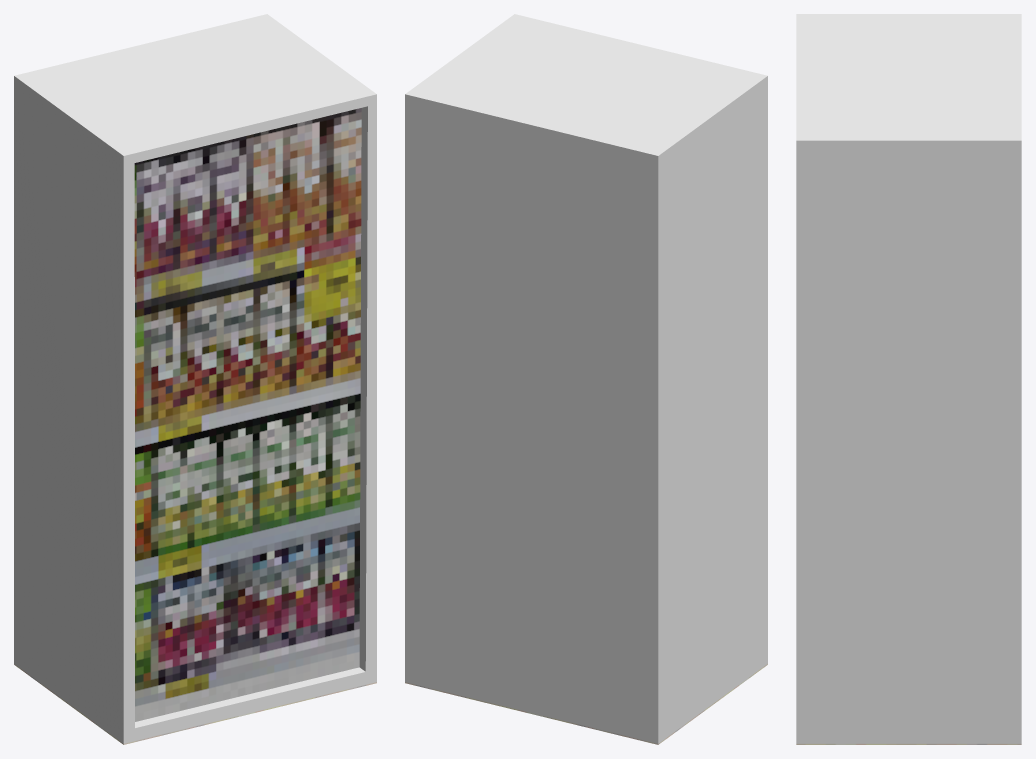
The model's file is Refrigerador_006.fbx.
3 renders of one model, left to right at view 1: azimuth 30°, elevation 25°; view 2: azimuth 150°, elevation 25°; view 3: azimuth 270°, elevation 25°, orthographic. The views are drawn at different scales.
Parts seen in each view (by area): view 1: Refrigerador.006; view 2: Refrigerador.006; view 3: Refrigerador.006.
Part boxes in pixels (x1=…): Refrigerador.006: x1=14, y1=14, x2=376, y2=744; Refrigerador.006: x1=405, y1=14, x2=767, y2=744; Refrigerador.006: x1=796, y1=14, x2=1021, y2=744.
Bounding box in the file's own units: 90 × 200 × 67.5.
2 materials, 2 textured.
